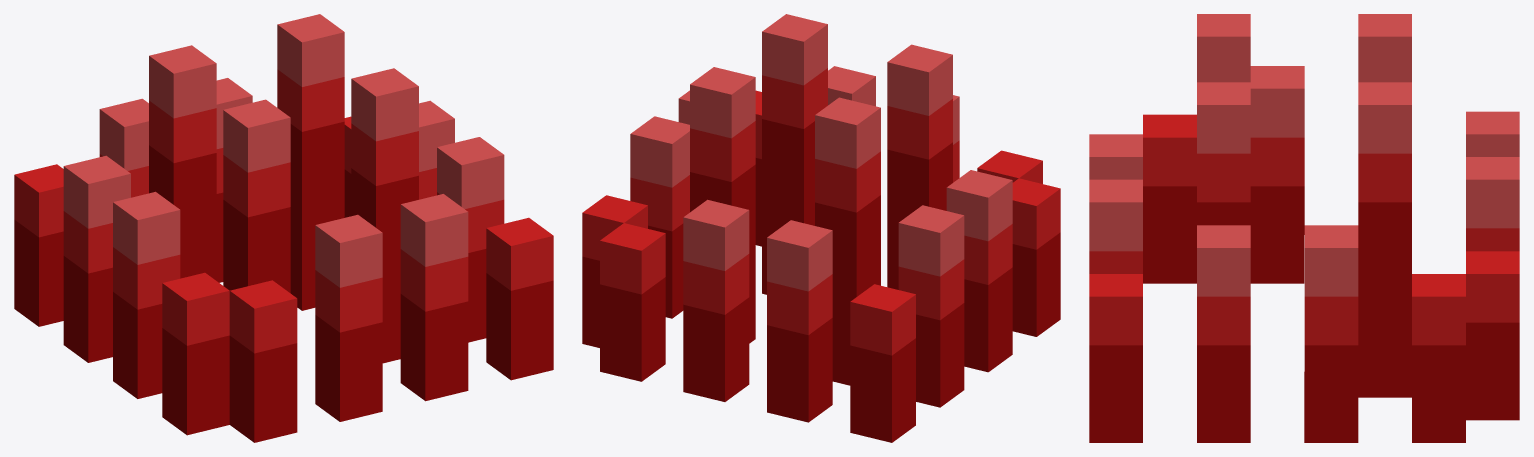
File: Spikes_Kill.glb
3 views of the same model, side by side, from view 1: azimuth 30°, elevation 25°; view 2: azimuth 150°, elevation 25°; view 3: azimuth 270°, elevation 25° (orthographic). The views are drawn at different scales.
Parts seen in each view (by area): view 1: Untitled; view 2: Untitled; view 3: Untitled.
Part boxes in pixels (x1,y1,x2,y2): Untitled: (14,14,553,442); Untitled: (582,14,1060,442); Untitled: (1089,14,1519,442).
Bounding box in the file's own units: 0.8 × 0.6 × 0.8.
1 material, 1 textured.
